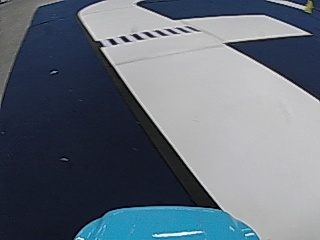CrossWalk: (102, 24, 198, 48)
